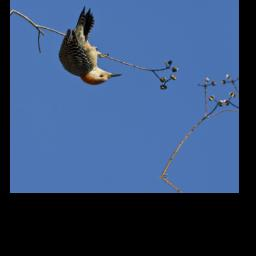Woodpecker: (46, 0, 128, 96)
